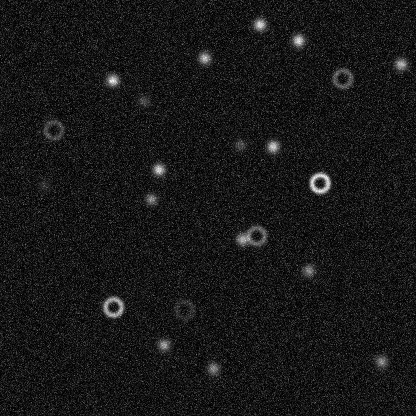Ring: (172, 297, 196, 321), (101, 294, 125, 318), (41, 117, 65, 141), (330, 66, 354, 90), (307, 170, 331, 194), (244, 223, 268, 247)
Spot: (135, 92, 151, 108), (234, 231, 250, 247), (155, 336, 171, 352), (232, 136, 248, 152), (251, 16, 267, 32), (36, 176, 52, 192), (143, 191, 159, 207), (300, 262, 316, 278), (196, 49, 212, 65), (264, 138, 280, 154), (290, 32, 306, 48), (150, 161, 166, 177), (104, 72, 120, 88), (373, 353, 389, 369), (392, 56, 408, 72), (205, 360, 221, 376)
